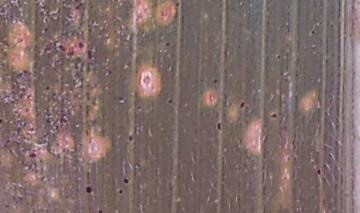tarspot: (130, 100, 146, 112), (54, 40, 67, 53), (39, 23, 53, 35), (84, 181, 94, 197), (209, 75, 222, 87), (236, 98, 248, 111), (213, 120, 224, 133), (267, 110, 280, 121), (76, 39, 86, 52), (274, 49, 283, 63), (124, 133, 136, 143), (85, 47, 93, 62), (166, 95, 175, 108), (26, 151, 38, 160), (43, 81, 52, 93), (308, 27, 318, 37), (163, 39, 172, 50), (26, 126, 37, 135), (172, 1, 183, 10), (115, 187, 125, 196), (116, 94, 125, 104), (120, 177, 131, 185), (314, 167, 322, 177), (105, 67, 113, 75), (1, 114, 5, 129), (96, 206, 104, 213)
